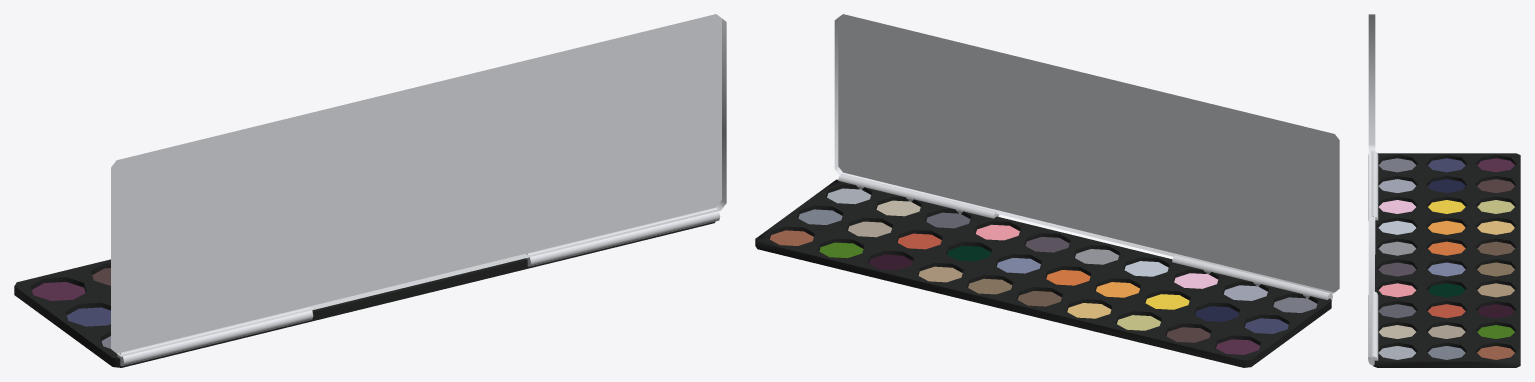
Rendered from makeup_make_up_pallete_open_rfgavx1cpx.glb.
3 renders of one model, left to right at view 1: azimuth 30°, elevation 25°; view 2: azimuth 150°, elevation 25°; view 3: azimuth 270°, elevation 25°, orthographic. The views are drawn at different scales.
Visible parts, largest first — view 1: make up_pallete_open.006; view 2: make up_pallete_open.006; view 3: make up_pallete_open.006.
Part boxes in pixels (x1=…): make up_pallete_open.006: x1=14, y1=14, x2=726, y2=367; make up_pallete_open.006: x1=755, y1=14, x2=1339, y2=367; make up_pallete_open.006: x1=1368, y1=14, x2=1520, y2=367.
Size of the model in its own units: 46.43 by 15.05 by 14.21.
Materials: 2 (2 with a texture image).
